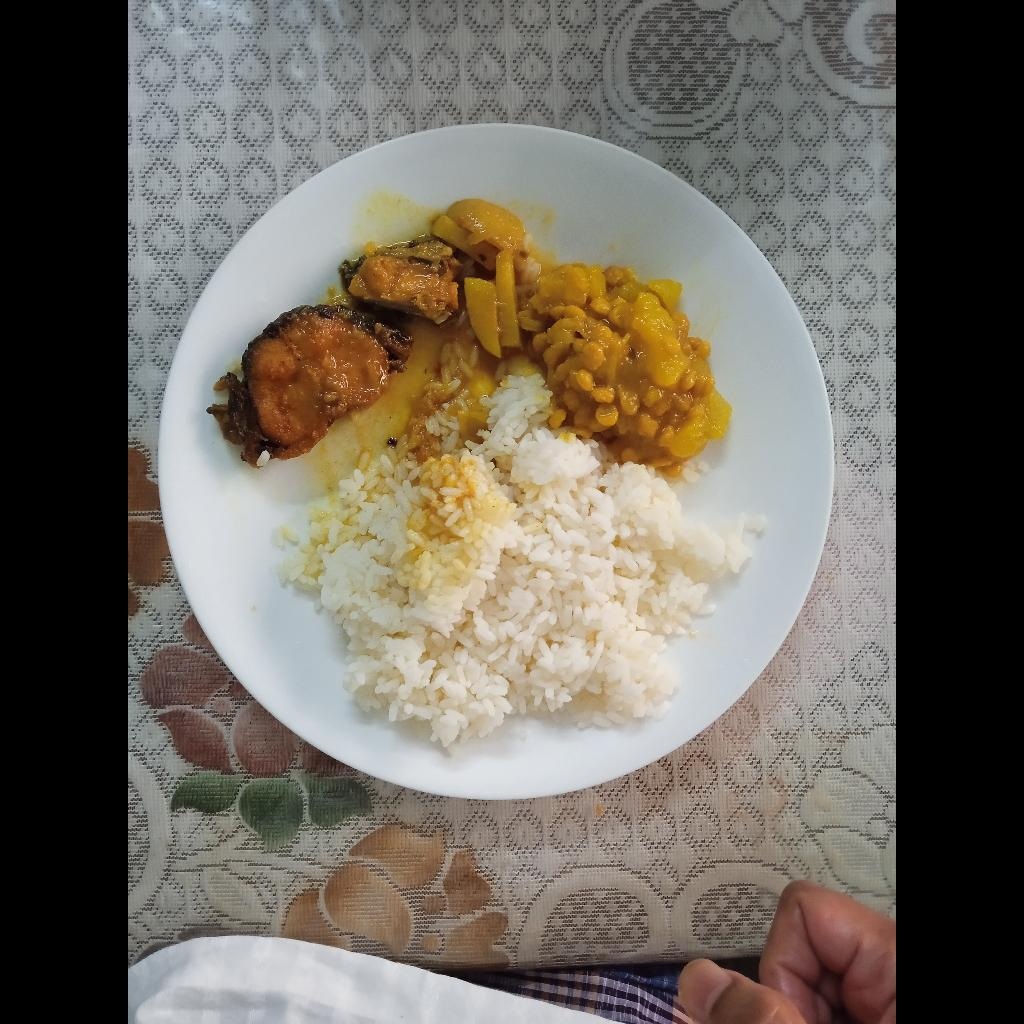fish: (204, 303, 416, 471), (338, 237, 460, 323)
lau: (521, 262, 733, 477)
potato: (431, 198, 525, 359)
rice: (276, 375, 769, 749)
